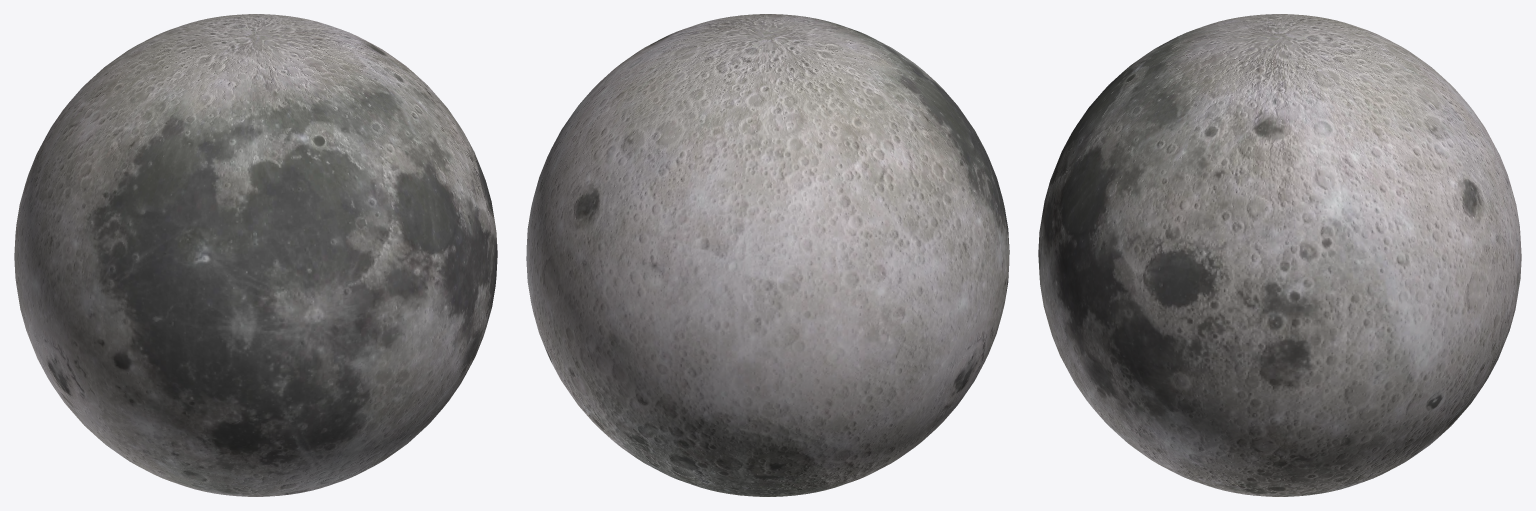
File: moon-transformed.glb
3 renders of one model, left to right at view 1: azimuth 30°, elevation 25°; view 2: azimuth 150°, elevation 25°; view 3: azimuth 270°, elevation 25°, orthographic.
Visible parts, largest first — view 1: Sphere001_Material #39_0; view 2: Sphere001_Material #39_0; view 3: Sphere001_Material #39_0.
Boxes of the visible parts, left/top/right/bottom form: Sphere001_Material #39_0: left=14, top=14, right=497, bottom=496; Sphere001_Material #39_0: left=526, top=14, right=1009, bottom=496; Sphere001_Material #39_0: left=1038, top=14, right=1521, bottom=496.
Size of the model in its own units: 3.77 by 3.77 by 3.77.
Materials: 1 (1 with a texture image).
